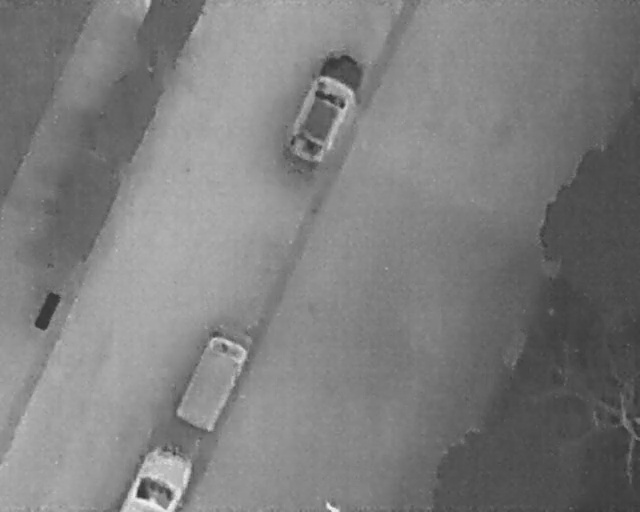Car: (278, 43, 372, 172), (166, 326, 254, 439), (119, 445, 195, 510)
Person: (325, 497, 346, 511)
